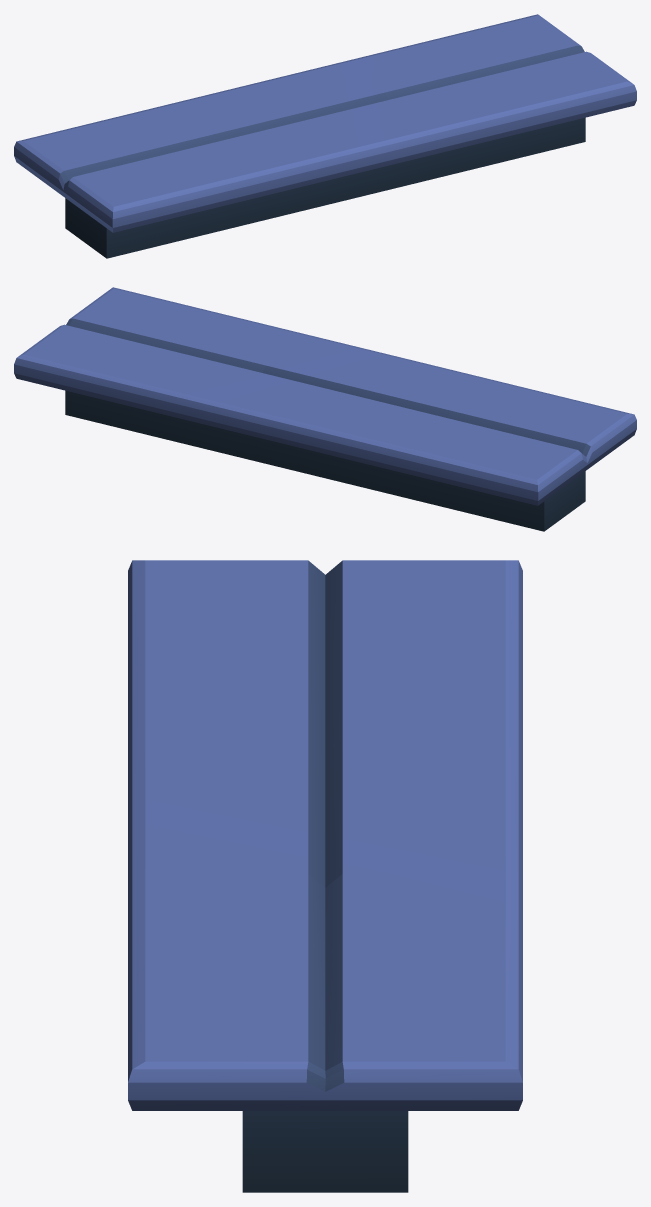
Rendered from MSH_Banquito.fbx.
3 views of the same model, one above another, from view 1: azimuth 30°, elevation 25°; view 2: azimuth 150°, elevation 25°; view 3: azimuth 270°, elevation 25° (orthographic). The views are drawn at different scales.
Visible parts, largest first — view 1: MSH_Banca; view 2: MSH_Banca; view 3: MSH_Banca.
Part boxes in pixels (x1,y1,x2,y2): MSH_Banca: [14, 14, 636, 258]; MSH_Banca: [14, 287, 636, 531]; MSH_Banca: [128, 560, 522, 1192].
Bounding box in the file's own units: 167 × 22.51 × 54.51.
